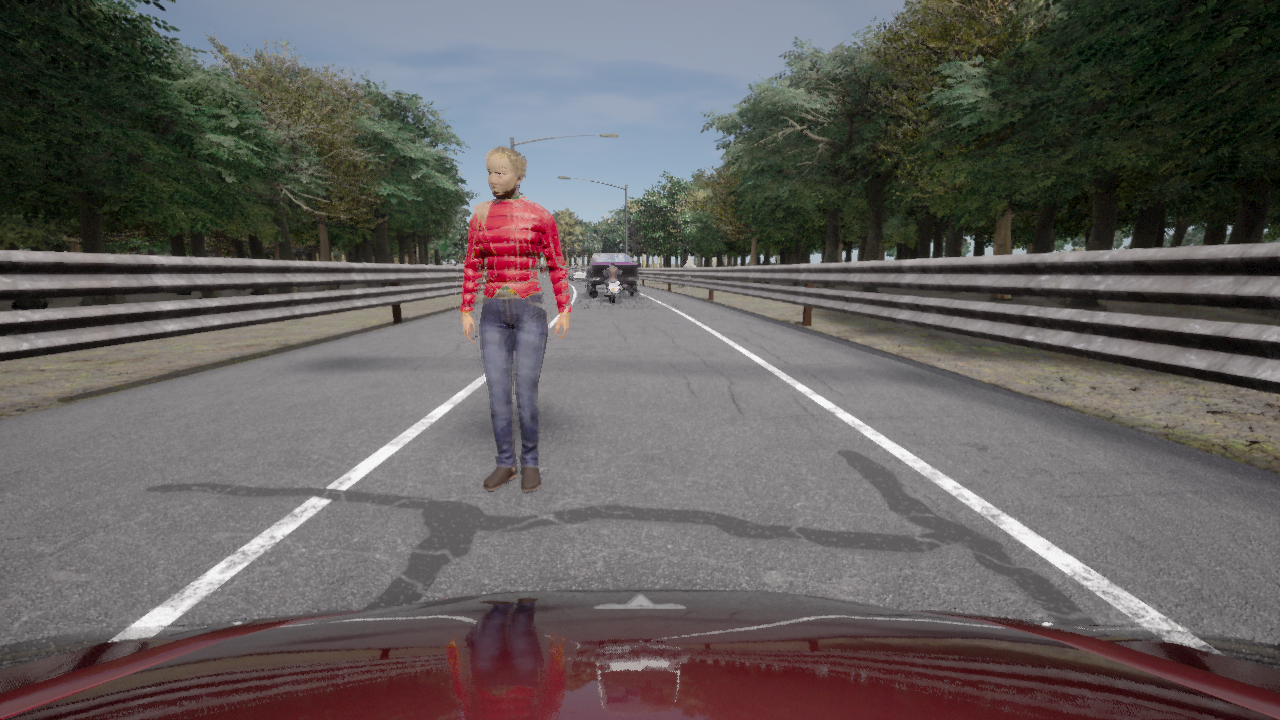cyclist: (0, 588, 1279, 719), (586, 254, 638, 296), (608, 270, 621, 303), (569, 267, 586, 281), (568, 267, 572, 275), (545, 267, 548, 275), (541, 267, 543, 273)
pedestrian: (461, 145, 572, 490), (683, 261, 691, 287)
